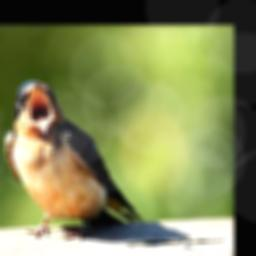Swallow: (3, 79, 145, 240)
